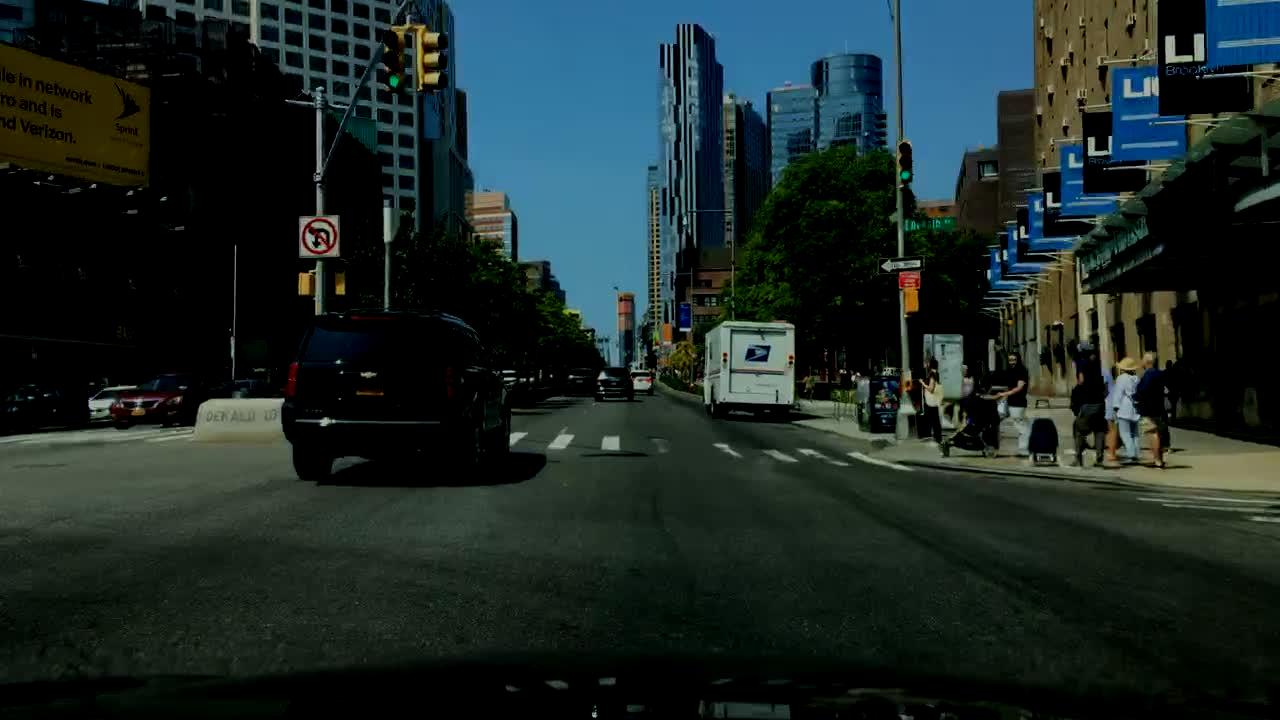chevrolet: (353, 362, 380, 382)
